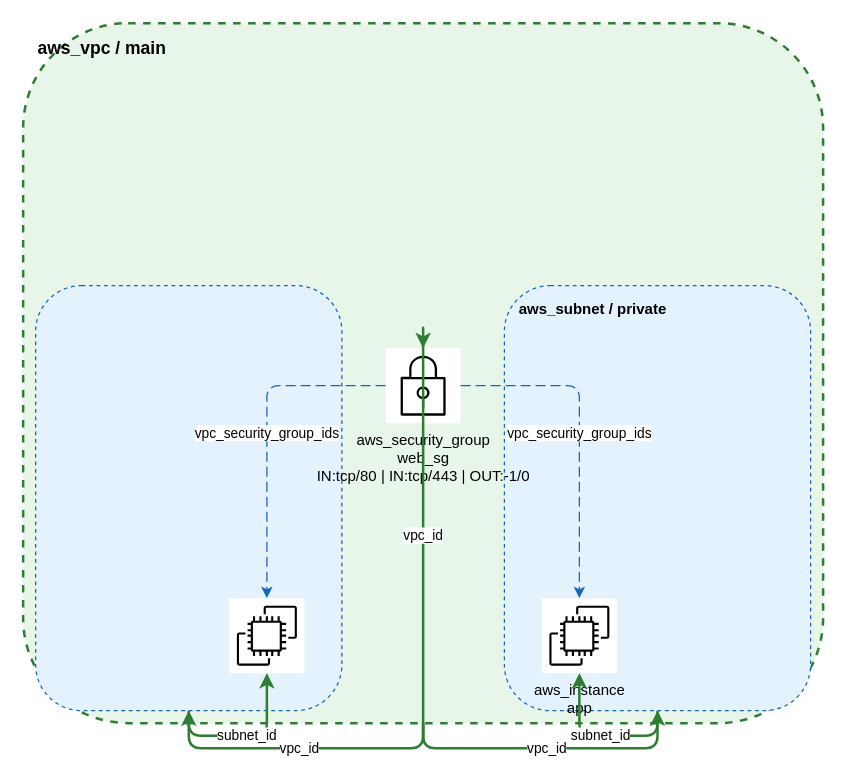
Some shapes in this 845 by 780 pixel diagram are drawn without their labels. Here are the shapes that lost their labels. From the top down, the box of each, then its label:
(34, 284, 342, 711): aws_subnet / public
(228, 597, 304, 673): aws_instance web
